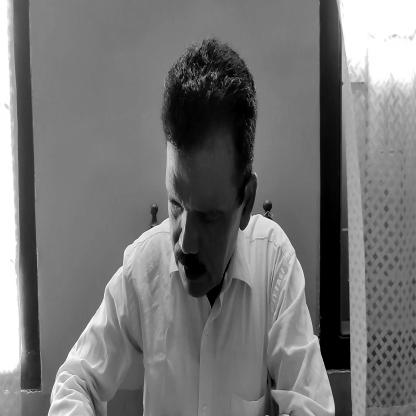Distracted: (164, 64, 257, 296)
